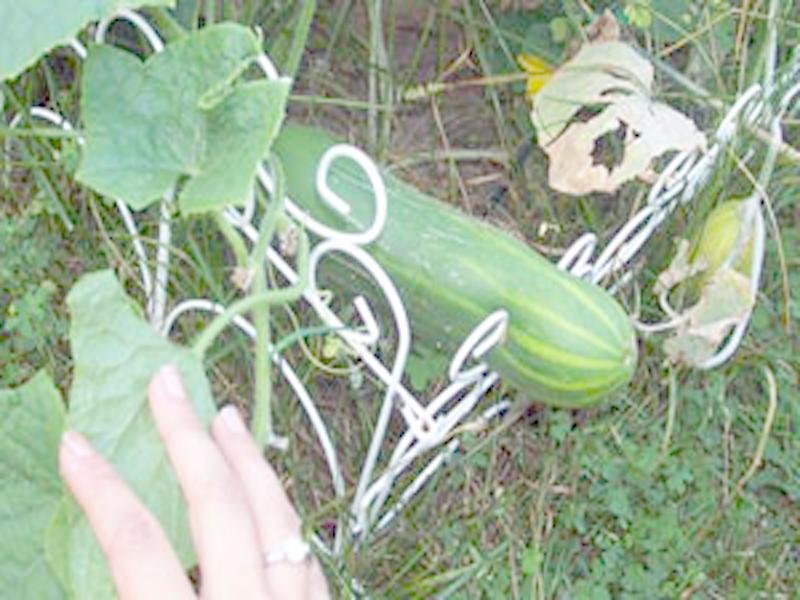Cucumber: (266, 123, 636, 405)
